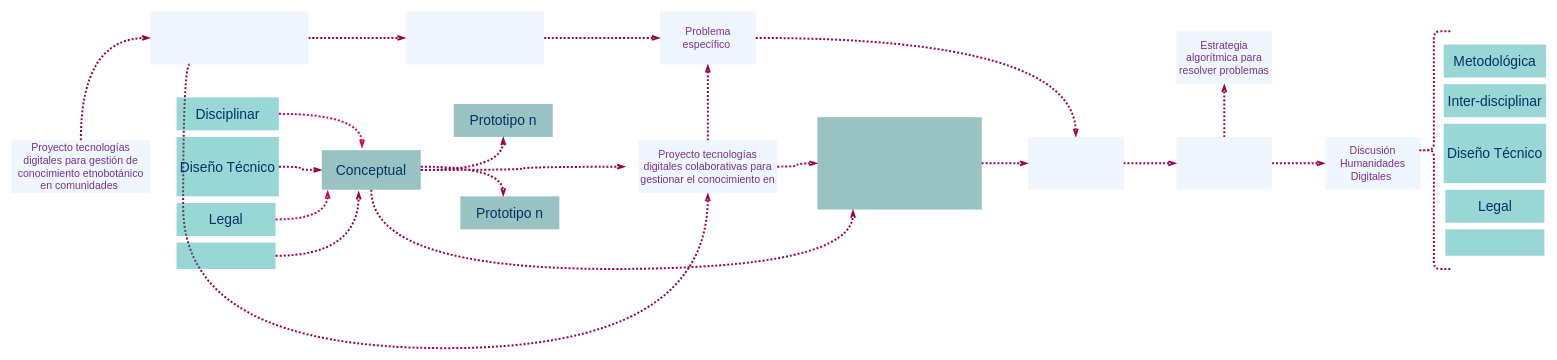
The diagram is 1557 pixels wide and 360 high, and some of its shapes have lost their labels. Each missing label, with the centre of its shape:
"Estrategia heurística para resolver problemas" belongs at (x=1075, y=163).
"Problemas generales" belongs at (x=229, y=37).
"Prototipo final" belongs at (x=1224, y=163).
"Reconceptualización" belongs at (x=899, y=163).
"Resolución de problemas por pensamiento lateral" belongs at (x=474, y=37).
"Ética" belongs at (x=1494, y=242).
"Ético" belongs at (x=225, y=255).
